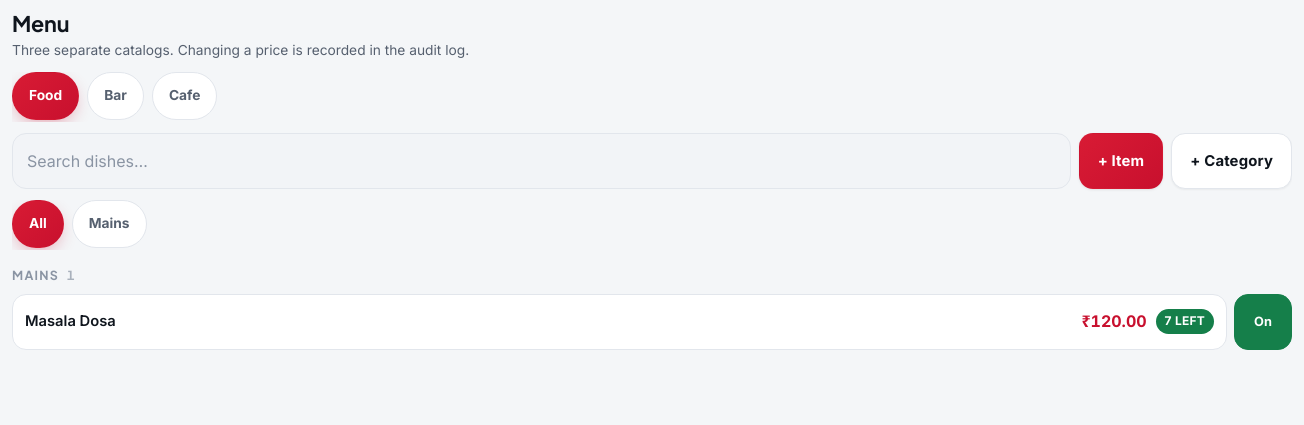
Test: catalog editor › a failed availability toggle does not announce success
Step 1. Click the button with aria-label "mark masala dosa unavailable" → (1263, 322), box [1234,294,1292,350]
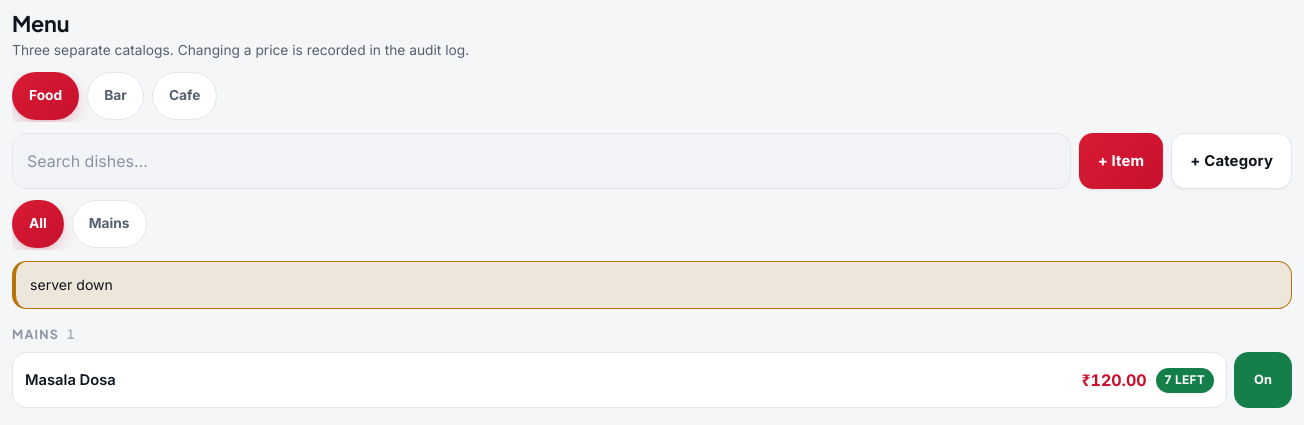
Now the text "server down" is shown, box [30,274,113,296]
